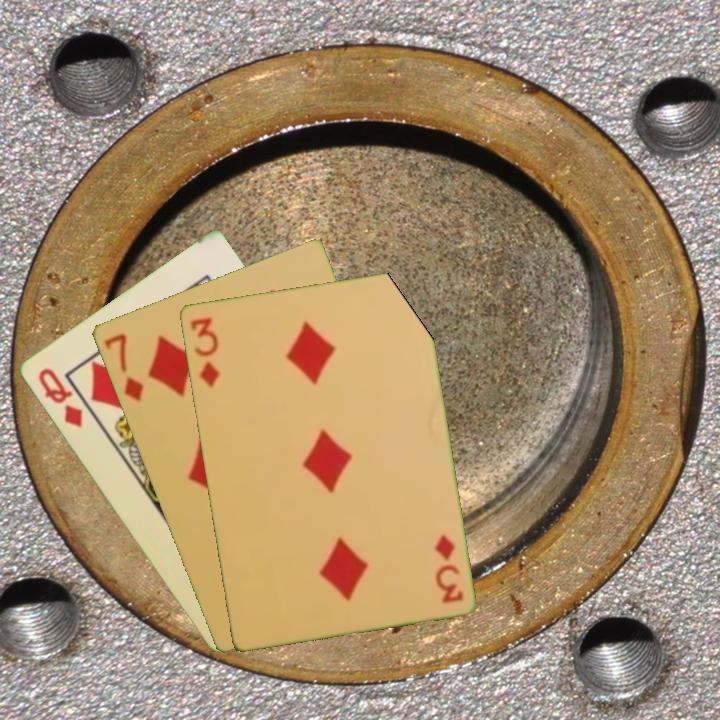3d: (430, 530, 466, 606), (186, 314, 222, 389)
7d: (100, 329, 147, 405)
Qd: (33, 364, 86, 431)
